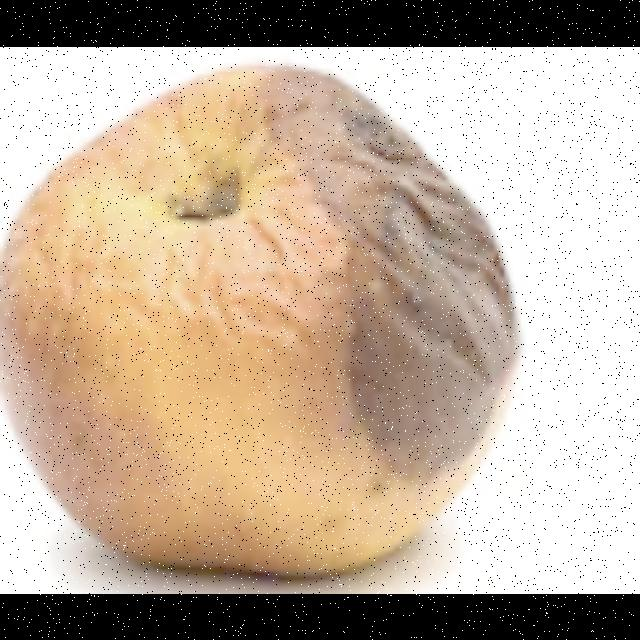Apel Tidak Segar: (0, 52, 526, 588)
